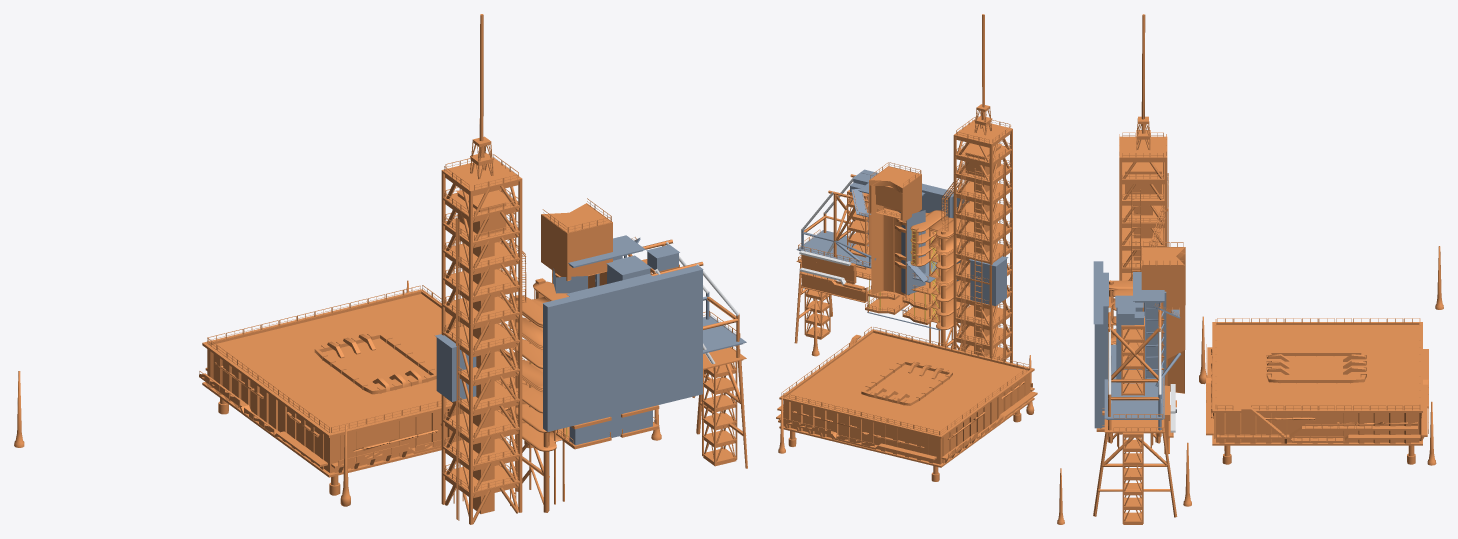
File: launch-gantry.glb
The picture shows the model from 3 angles, left to right: view 1: azimuth 30°, elevation 25°; view 2: azimuth 150°, elevation 25°; view 3: azimuth 270°, elevation 25°; orthographic projection. The views are drawn at different scales.
Parts seen in each view (by area): view 1: polySurface352 polySurface351, polySurface115 polySurface347, polySurface336, polySurface707, polySurface891 polySurface1050, pCube127, polySurface115 polySurface346, polySurface891 polySurface926, polySurface115 polySurface912, polySurface891 polySurface927, polySurface433, polySurface891 polySurface930 (+15 smaller); view 2: polySurface352 polySurface351, polySurface336, pCube108, polySurface115 polySurface912, pCube127, polySurface115 polySurface841, polySurface115 polySurface875, polySurface707, polySurface870, polySurface432, polySurface891 polySurface926, polySurface891 polySurface1050 (+24 smaller); view 3: polySurface352 polySurface351, polySurface336, polySurface115 polySurface841, polySurface707, pCube127, polySurface115 polySurface347, polySurface870, polySurface891 polySurface926, polySurface115 polySurface1319, polySurface333 polySurface115, polySurface115 polySurface346, polySurface891 polySurface1027 (+11 smaller).
Part boxes in pixels (x1,y1,x2,y2): polySurface352 polySurface351: (202,289,532,477); polySurface115 polySurface347: (542,265,703,431); polySurface336: (541,198,612,288); polySurface707: (702,362,737,466); polySurface891 polySurface1050: (473,243,494,513); pCube127: (314,332,436,394); polySurface115 polySurface346: (566,273,652,445); polySurface891 polySurface926: (441,157,522,195); polySurface115 polySurface912: (435,334,476,401); polySurface891 polySurface927: (518,180,522,512); polySurface433: (199,371,327,466); polySurface891 polySurface930: (469,192,472,524); polySurface352 polySurface351: (779,329,1034,467); polySurface336: (869,162,921,297); pCube108: (799,254,867,302); polySurface115 polySurface912: (969,256,1008,305); pCube127: (861,360,952,405); polySurface115 polySurface841: (796,230,937,282); polySurface115 polySurface875: (898,210,925,294); polySurface707: (804,288,830,339); polySurface870: (847,189,868,269); polySurface432: (778,417,936,460); polySurface891 polySurface926: (953,119,1012,147); polySurface891 polySurface1050: (974,182,989,356); polySurface352 polySurface351: (1212,322,1422,445); polySurface336: (1141,242,1185,393); polySurface115 polySurface841: (1104,345,1164,419); polySurface707: (1122,432,1143,524); pCube127: (1266,350,1366,383); polySurface115 polySurface347: (1093,261,1103,428); polySurface870: (1121,316,1144,395); polySurface891 polySurface926: (1119,136,1167,162); polySurface115 polySurface1319: (1145,302,1158,378); polySurface333 polySurface115: (1104,419,1164,433); polySurface115 polySurface346: (1102,272,1108,427); polySurface891 polySurface1027: (1123,162,1162,194).
Size of the model in its own units: 20.33 by 18.16 by 14.01.
